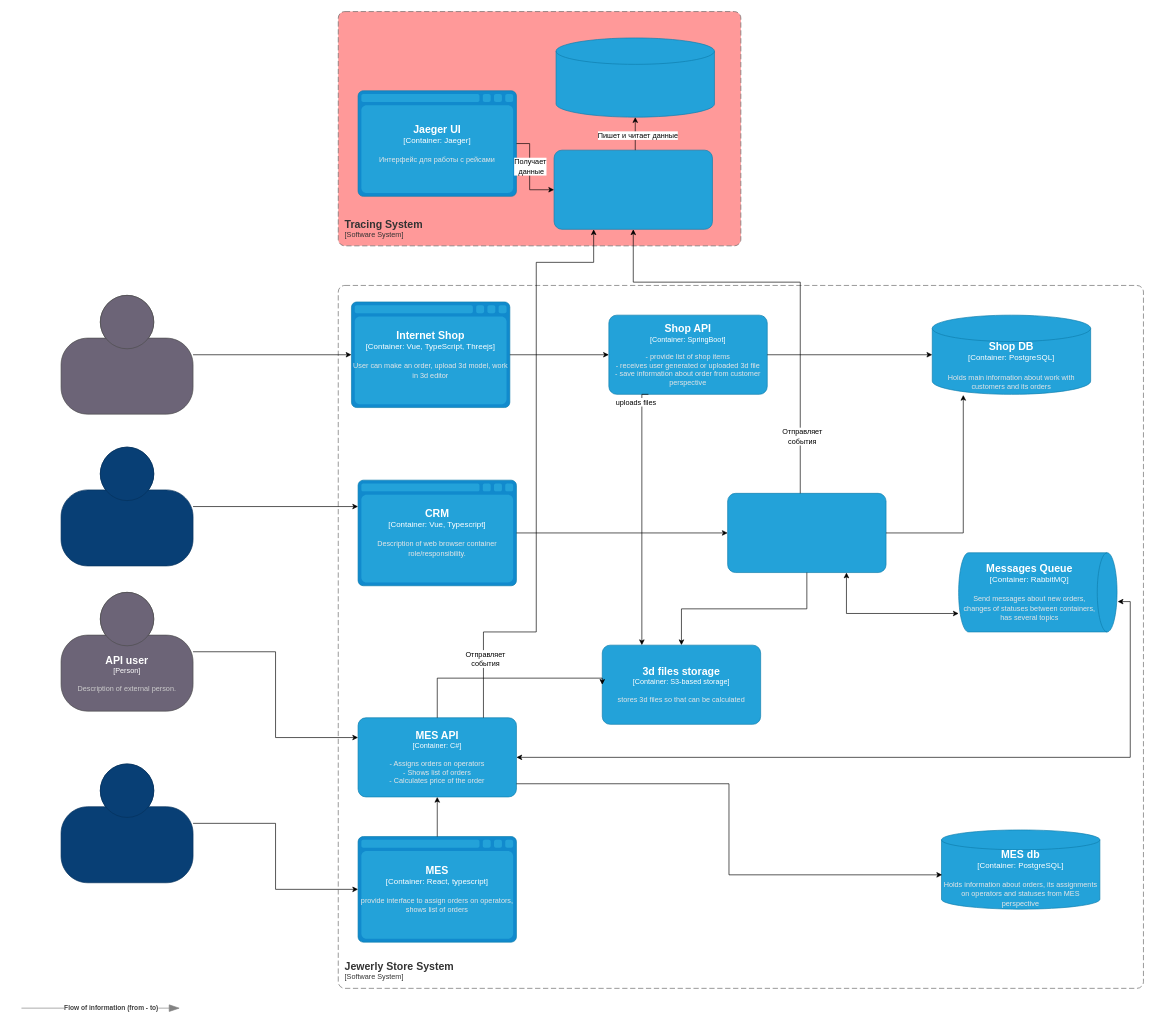
Image size: 1155x1030. Some labels were removed from this diagram. The centre of each missing label's shape, as x and y in pixels:
CRM API [Container: SpringBoot] Description of container role/responsibility.: the point at 806,533
Customer [Person] Description of external person.: the point at 126,354
Jaeger API [Container: Jaeger] Сервис принимающий данные: the point at 632,189
Operator [Person] Takes order in work, manufactures jewerly: the point at 126,823
Seller [Person] Operates with order, confirms manufacturing for the user: the point at 126,506
Tracing DB [Container: Elasticsearch] База для хранения: the point at 634,77
